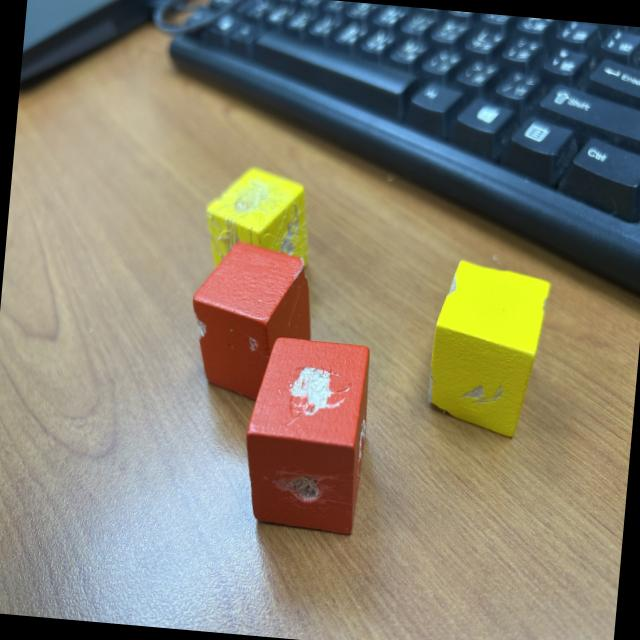broken: (238, 334, 374, 534), (423, 256, 552, 440), (184, 236, 319, 408), (198, 160, 315, 294)
